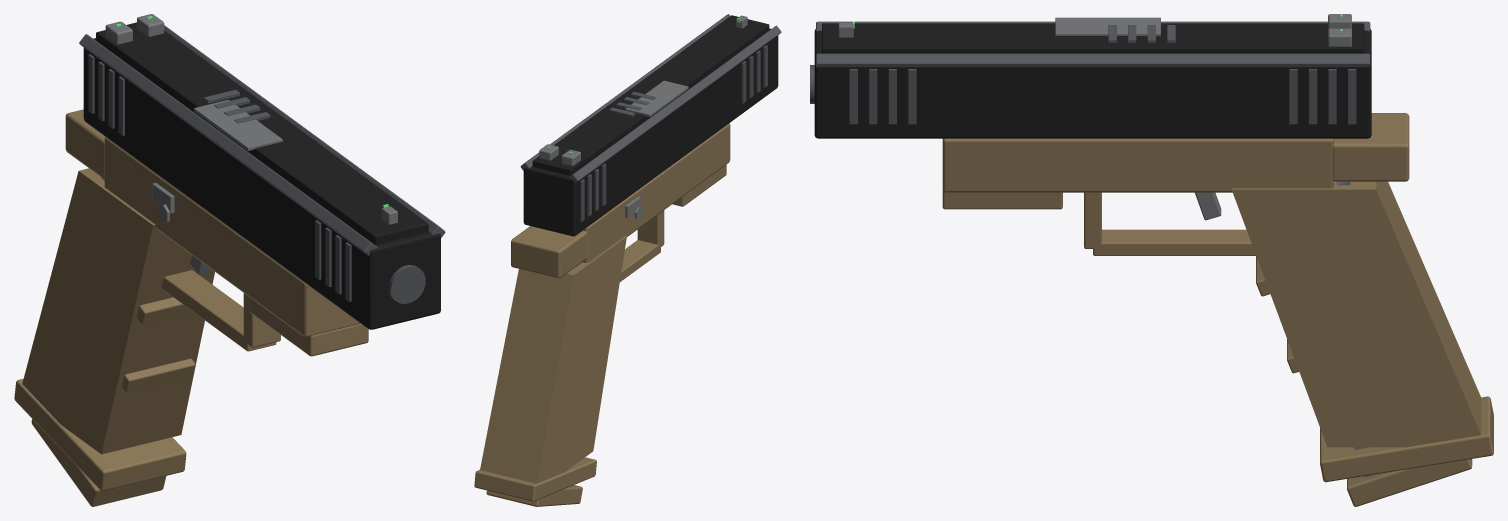
3 renders of one model, left to right at view 1: azimuth 30°, elevation 25°; view 2: azimuth 150°, elevation 25°; view 3: azimuth 270°, elevation 25°, orthographic. The views are drawn at different scales.
Parts seen in each view (by area): view 1: Body, Slide, Magazine; view 2: Body, Slide, Magazine; view 3: Body, Slide, Magazine.
Boxes of the visible parts, left/top/right/bottom form: Body: left=14, top=109, right=368, bottom=491; Slide: left=79, top=14, right=445, bottom=329; Magazine: left=31, top=177, right=166, bottom=506; Body: left=474, top=123, right=730, bottom=501; Slide: left=520, top=14, right=781, bottom=236; Magazine: left=486, top=263, right=582, bottom=506; Body: left=942, top=113, right=1493, bottom=482; Slide: left=810, top=14, right=1371, bottom=138; Magazine: left=1337, top=181, right=1472, bottom=506.
Size of the model in its own units: 0.0314 by 0.1715 by 0.2271.
